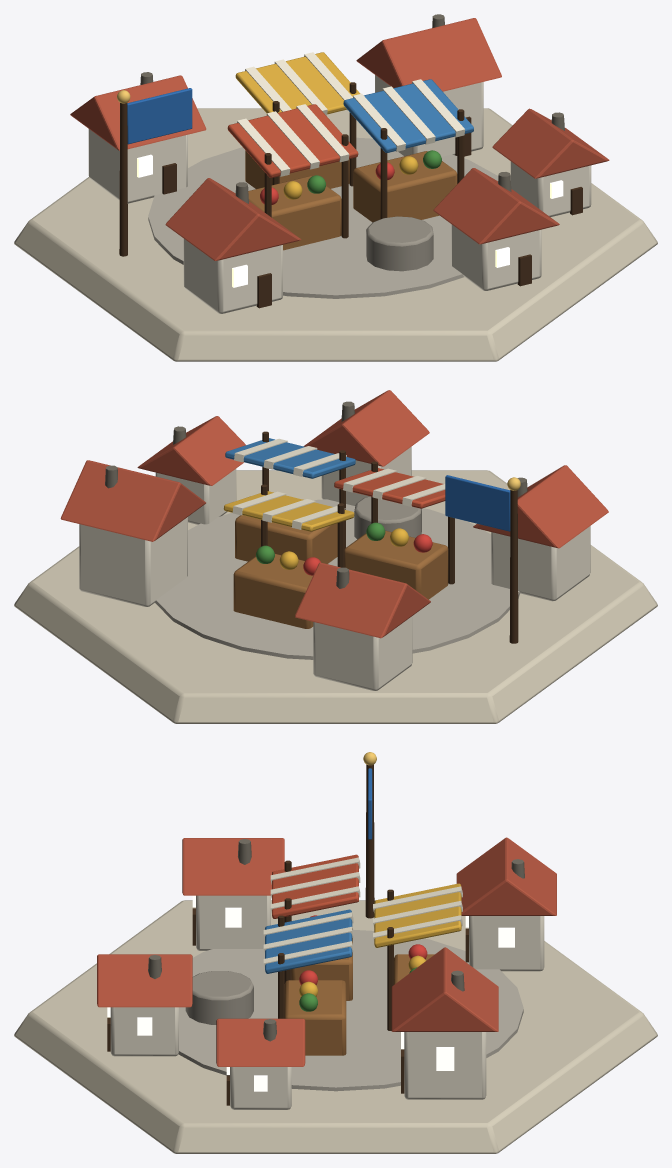
Rendered from district-site.glb.
3 renders of one model, top to bottom at view 1: azimuth 30°, elevation 25°; view 2: azimuth 150°, elevation 25°; view 3: azimuth 270°, elevation 25°, orthographic.
Parts seen in each view (by area): view 1: district-site; view 2: district-site; view 3: district-site.
Boxes of the visible parts, <box> form: district-site: <box>14,14,657,361</box>; district-site: <box>14,390,657,723</box>; district-site: <box>14,752,657,1153</box>.
Bounding box in the file's own units: 1.64 × 0.61 × 1.89.
